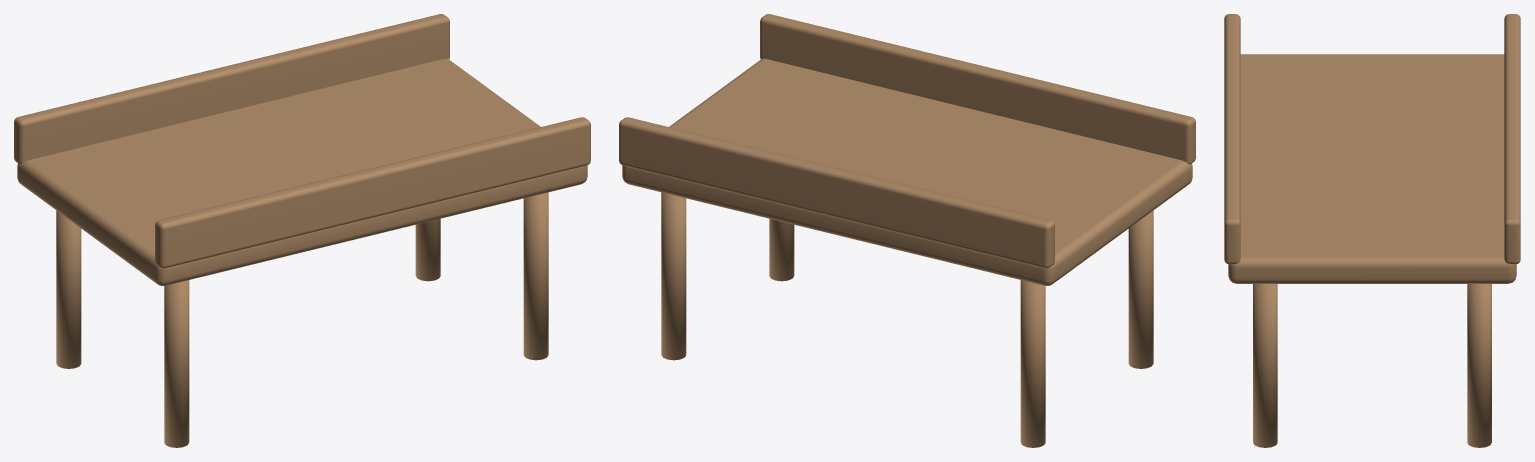
File: atelier-bedside-tray.glb
The picture shows the model from 3 angles, left to right: view 1: azimuth 30°, elevation 25°; view 2: azimuth 150°, elevation 25°; view 3: azimuth 270°, elevation 25°; orthographic projection.
Parts seen in each view (by area): view 1: legs.076; view 2: legs.076; view 3: legs.076.
Part boxes in pixels (x1,y1,x2,y2): legs.076: [14, 14, 590, 447]; legs.076: [619, 14, 1195, 447]; legs.076: [1224, 14, 1520, 447].
Size of the model in its own units: 0.6 by 0.32 by 0.36.
